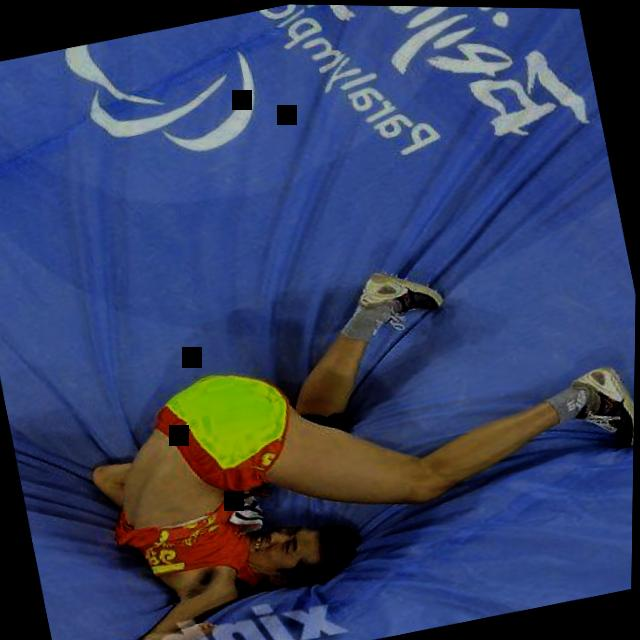Fall-Detected: (5, 218, 637, 640)
